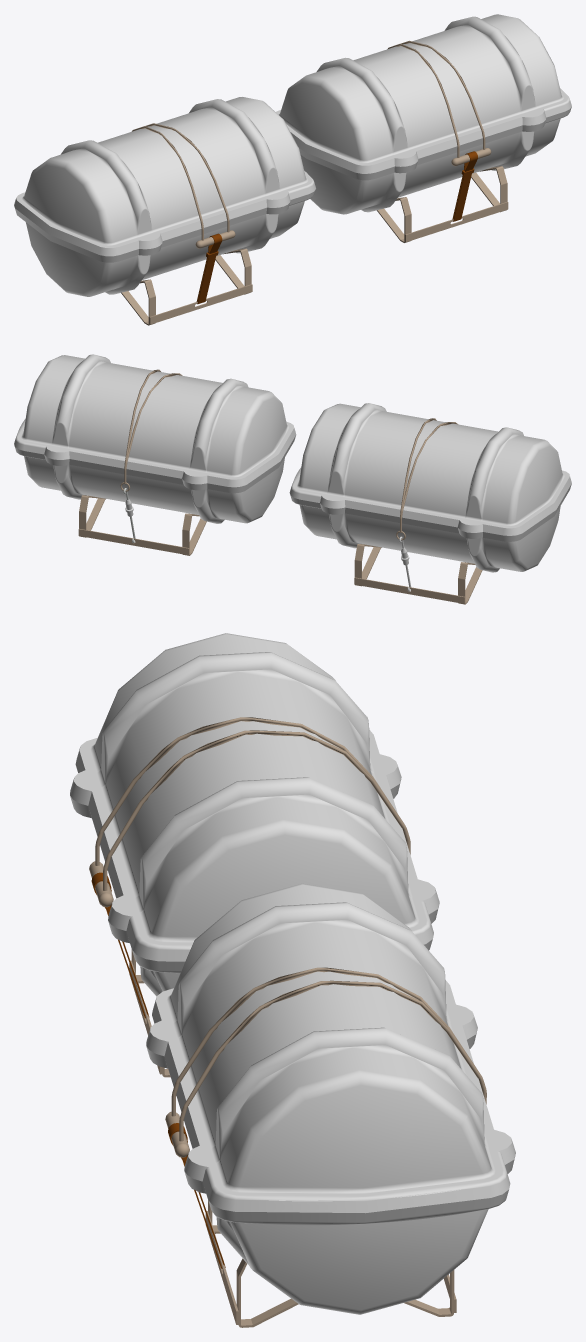
3 views of the same model, one above another, from view 1: azimuth 30°, elevation 25°; view 2: azimuth 150°, elevation 25°; view 3: azimuth 270°, elevation 25° (orthographic). The views are drawn at different scales.
Visible parts, largest first — view 1: NAUO31; view 2: NAUO31; view 3: NAUO31.
Part boxes in pixels (box(x1,y1,x2,y2)): NAUO31: box(14, 14, 571, 325); NAUO31: box(14, 354, 571, 604); NAUO31: box(70, 633, 515, 1327).
Size of the model in its own units: 3.79 by 1.12 by 1.49.
